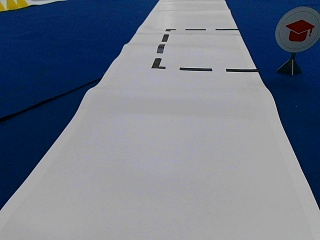school: (275, 7, 318, 53)
